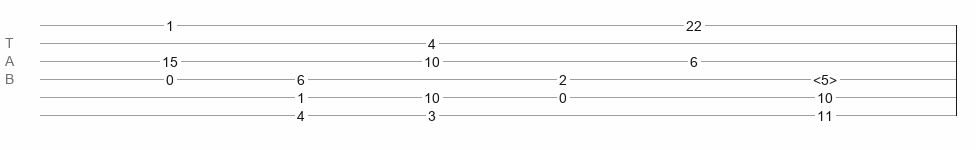0: (166, 72, 174, 82), (559, 90, 567, 100)
1: (166, 18, 174, 28), (297, 90, 305, 100)
10: (424, 54, 440, 64), (424, 90, 440, 100), (817, 90, 833, 100)
11: (817, 108, 833, 118)
15: (162, 54, 178, 64)
2: (559, 72, 567, 82)
22: (686, 18, 702, 28)
3: (428, 108, 436, 118)
4: (297, 108, 305, 118), (428, 36, 436, 46)
6: (297, 72, 305, 82), (690, 54, 698, 64)
harmonic: (813, 72, 837, 82)
